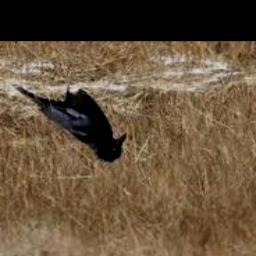Crow: (14, 83, 127, 165)
